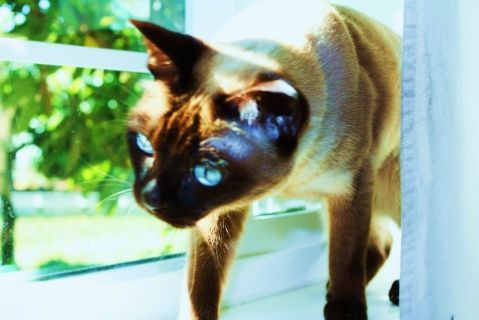Cat: (69, 0, 403, 319)
